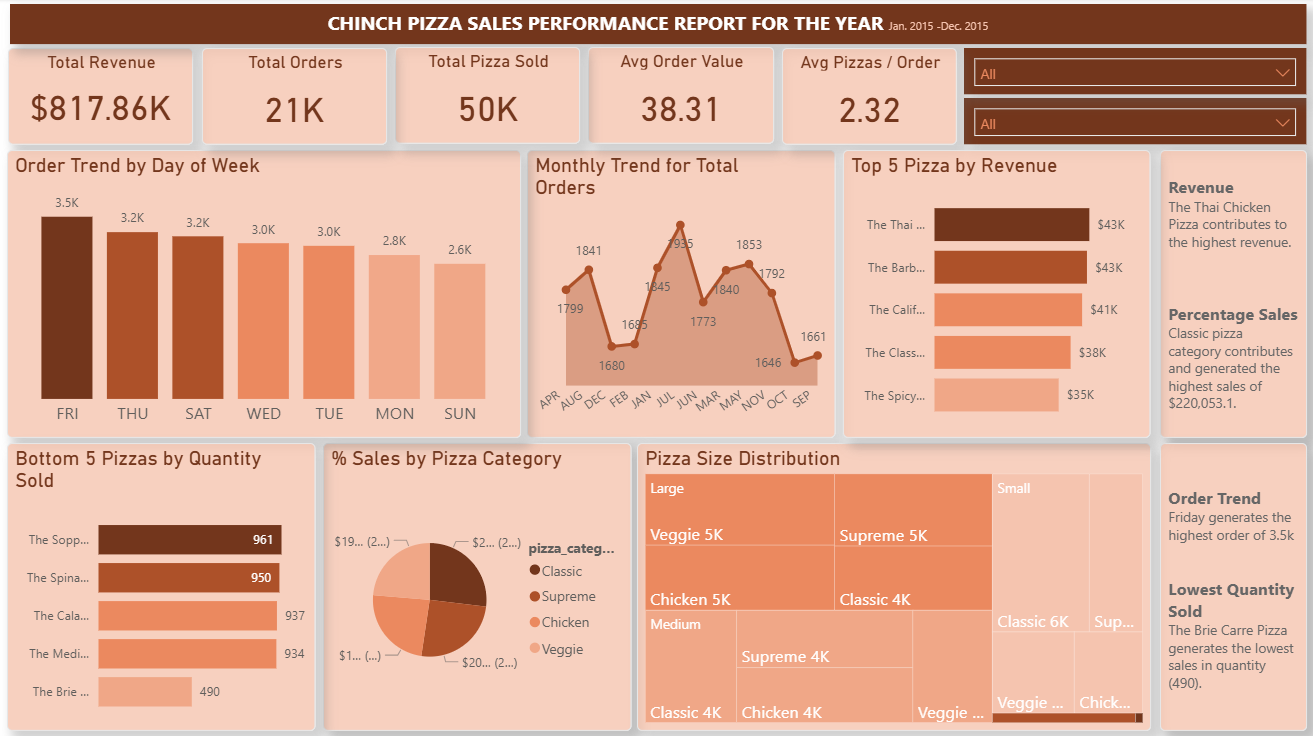

The page's visual inventory and layout, read from the dashboard file:
{"tool":"powerbi","page":{"name":"DASHBOARD","canvas":[1280,720],"ordinal":0},"visuals":[{"type":"areaChart","title":"Monthly Trend for Total Orders","fields":{"Category":["public pizza_sales.order_month"],"Y":["public pizza_sales.Total Orders"]},"box":[514.5,147.8,299.6,280.1],"z":0},{"type":"card","title":"Total Revenue","fields":{"Values":["public pizza_sales.Total Revenue"]},"box":[9.7,48.6,179.9,94.3],"z":1000},{"type":"slicer","fields":{"Values":["public pizza_sales.pizza_category"]},"box":[939.6,97.3,332.6,44.7],"z":2000},{"type":"pieChart","title":"% Sales by Pizza Category","fields":{"Category":["public pizza_sales.pizza_category"],"Y":["public pizza_sales.Total Revenue"]},"box":[316.1,432.8,299.6,280.1],"z":3000},{"type":"columnChart","title":"Order Trend by Day of Week","fields":{"Category":["public pizza_sales.Order Day"],"Y":["public pizza_sales.Total Orders"]},"box":[8.8,147.8,500,280.1],"z":4000},{"type":"clusteredBarChart","title":"Bottom 5 Pizzas by Quantity Sold","fields":{"Category":["public pizza_sales.pizza_name"],"Y":["Sum(public pizza_sales.quantity)"]},"box":[8.8,432.8,300,280.1],"z":5000},{"type":"textbox","box":[11.7,5.8,1260.5,38.9],"z":7000},{"type":"card","title":"Avg Order Value","fields":{"Values":["public pizza_sales.Average Order Value"]},"box":[573.9,47.7,180.9,94.3],"z":8000},{"type":"card","title":"Total Pizza Sold","fields":{"Values":["public pizza_sales.Total Pizzas Sold"]},"box":[386.1,47.7,179.9,94.3],"z":9000},{"type":"treemap","title":"Pizza Size Distribution","fields":{"Group":["public pizza_sales.pizza_size"],"Details":["public pizza_sales.pizza_category"],"Values":["public pizza_sales.total_pizzas_sold"]},"box":[621.5,432.8,499.9,280.1],"z":10000},{"type":"slicer","fields":{"Values":["public pizza_sales.day_of_week"]},"box":[939.6,48.6,332.6,44.7],"z":11000},{"type":"card","title":"Total Orders","fields":{"Values":["public pizza_sales.Total Orders"]},"box":[198.4,48.6,179.9,94.3],"z":12000},{"type":"card","title":"Avg Pizzas / Order","fields":{"Values":["public pizza_sales.Average Pizzas Per Order"]},"box":[762.6,48.6,170.2,94.3],"z":13000},{"type":"textbox","box":[1130.2,147.8,143,280.1],"z":14000},{"type":"textbox","box":[1130.2,432.8,143,280.1],"z":15000},{"type":"barChart","title":"Top 5 Pizza by Revenue","fields":{"Category":["public pizza_sales.pizza_name"],"Y":["public pizza_sales.total_revenue"]},"box":[821.9,147.8,299,280],"z":16000}]}

Visuals, with their boxes in screenshot pixels (x1, y1, x2, y2), scaled from the page's 1280x720 canvas onto the 1313x736 screenshot:
"Monthly Trend for Total Orders" areaChart: 528,151,835,437
"Total Revenue" card: 10,50,194,146
slicer - public pizza_sales.pizza_category: 964,99,1305,145
"% Sales by Pizza Category" pieChart: 324,442,632,729
"Order Trend by Day of Week" columnChart: 9,151,522,437
"Bottom 5 Pizzas by Quantity Sold" clusteredBarChart: 9,442,317,729
textbox: 12,6,1305,46
"Avg Order Value" card: 589,49,774,145
"Total Pizza Sold" card: 396,49,581,145
"Pizza Size Distribution" treemap: 638,442,1150,729
slicer - public pizza_sales.day_of_week: 964,50,1305,95
"Total Orders" card: 204,50,388,146
"Avg Pizzas / Order" card: 782,50,957,146
textbox: 1159,151,1306,437
textbox: 1159,442,1306,729
"Top 5 Pizza by Revenue" barChart: 843,151,1150,437
